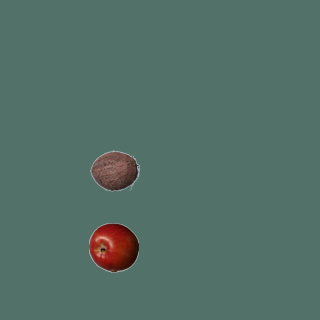Apple Braeburn: (88, 222, 138, 272)
Cocos: (89, 145, 139, 195)
